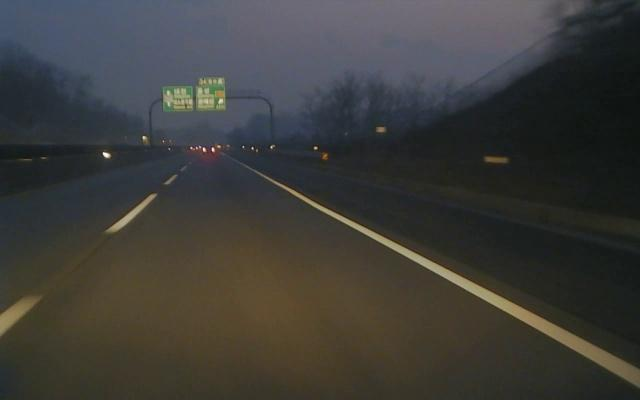lane: (247, 168, 640, 388), (0, 165, 186, 339)
